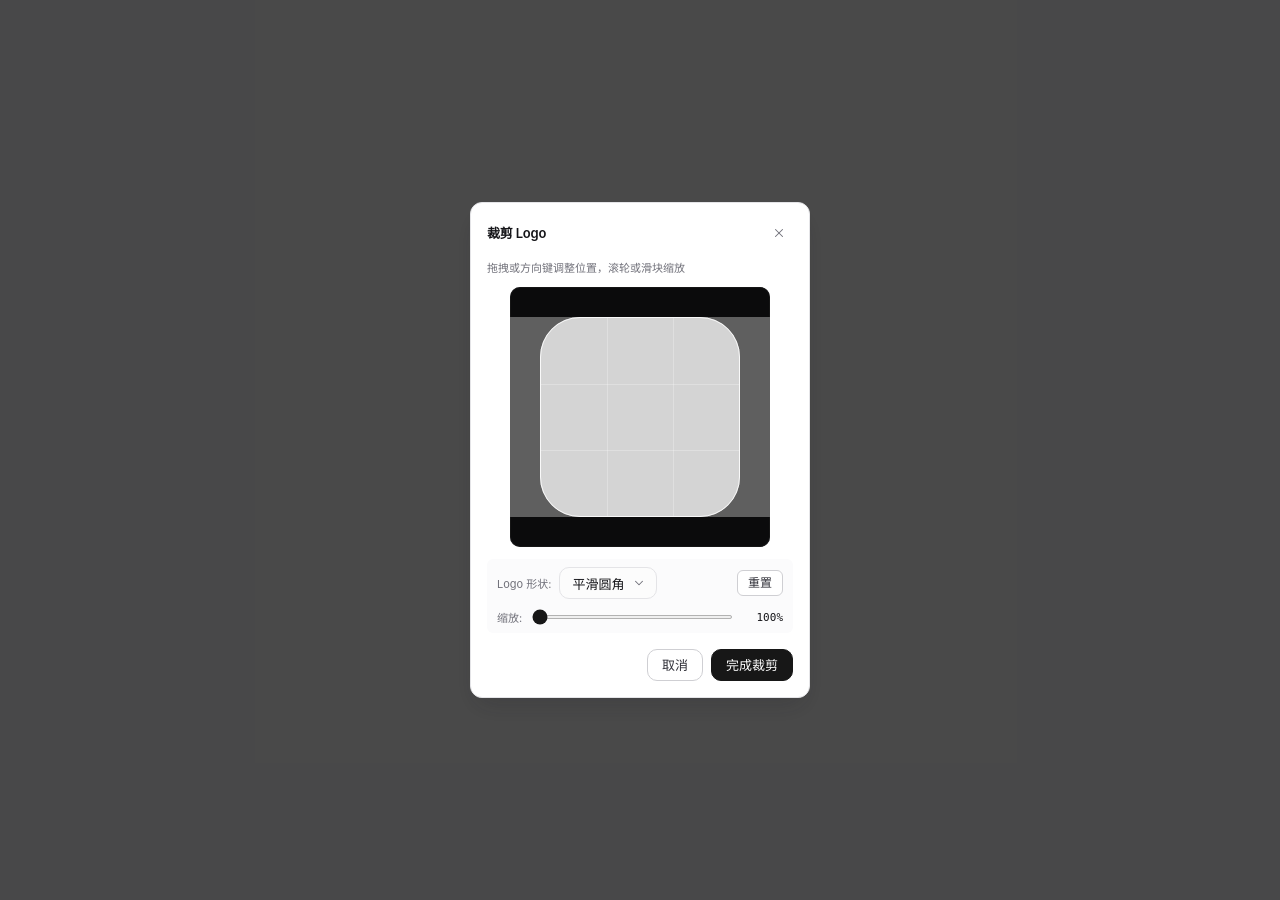
Scenario: QrLogoCropModal：导出失败反馈 › 导出失败后环境恢复：可再次确认并成功导出，错误提示随之清除
Click the button "完成裁剪". click: coordinates (752, 665)
box: x1=711 y1=649 x2=793 y2=681
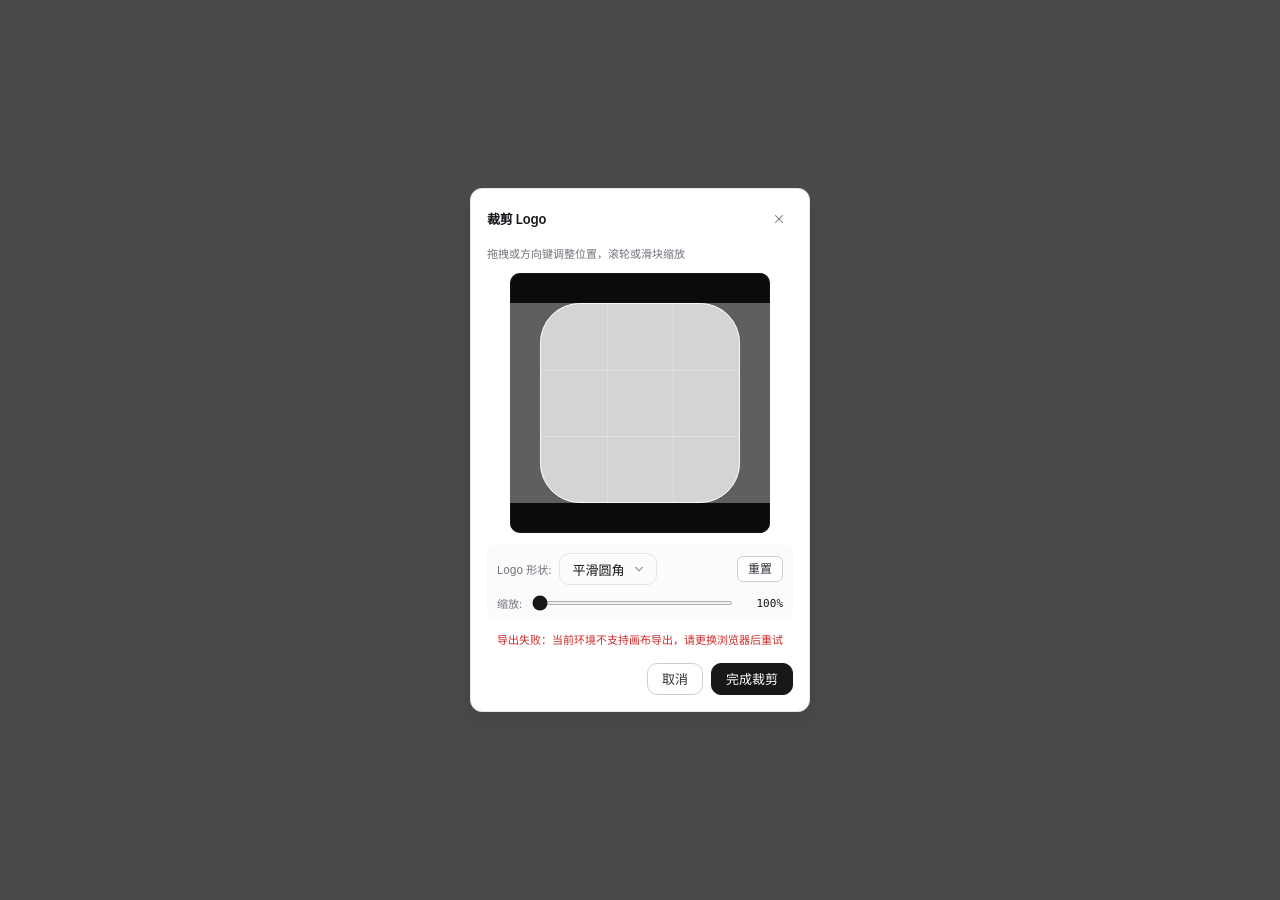
Check: the text "导出失败：当前环境不支持画布导出，请更换浏览器后重试" is shown, box x1=487 y1=631 x2=793 y2=647
Click the button "完成裁剪". click: coordinates (752, 679)
box: x1=711 y1=663 x2=793 y2=695
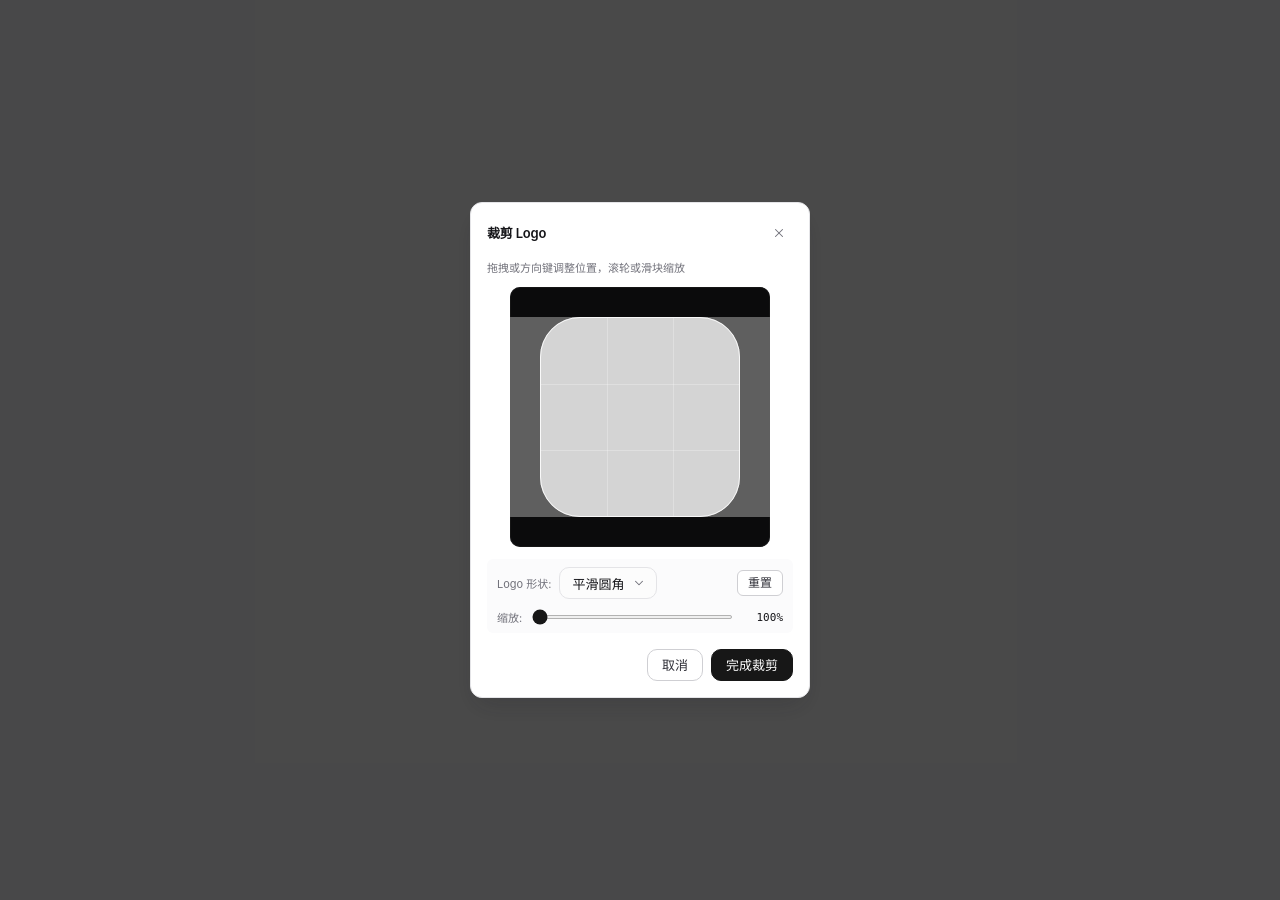
Check: the text "导出失败：当前环境不支持画布导出，请更换浏览器后重试" is gone
